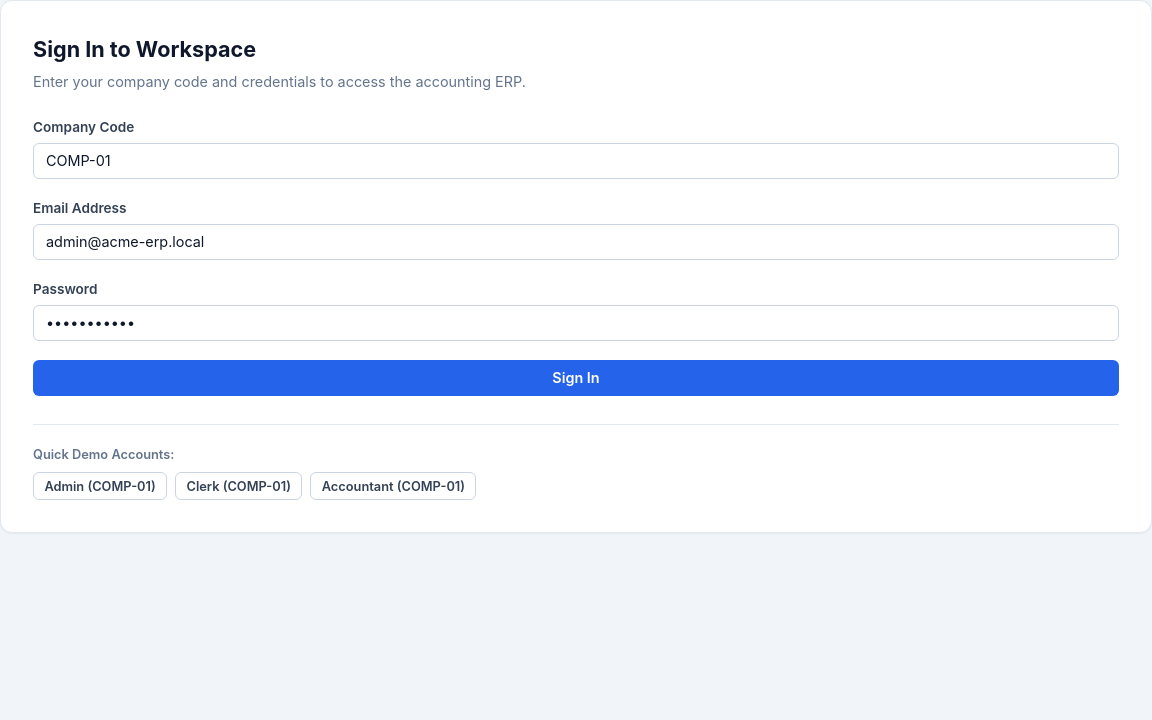
Test: Auth & Localization Contexts › LoginForm › populates fields when a quick account button is clicked
This screenshot has width=1152, height=720.
Step 1. Click the button "Clerk (COMP-01)" → (239, 486), box [175,472,302,500]
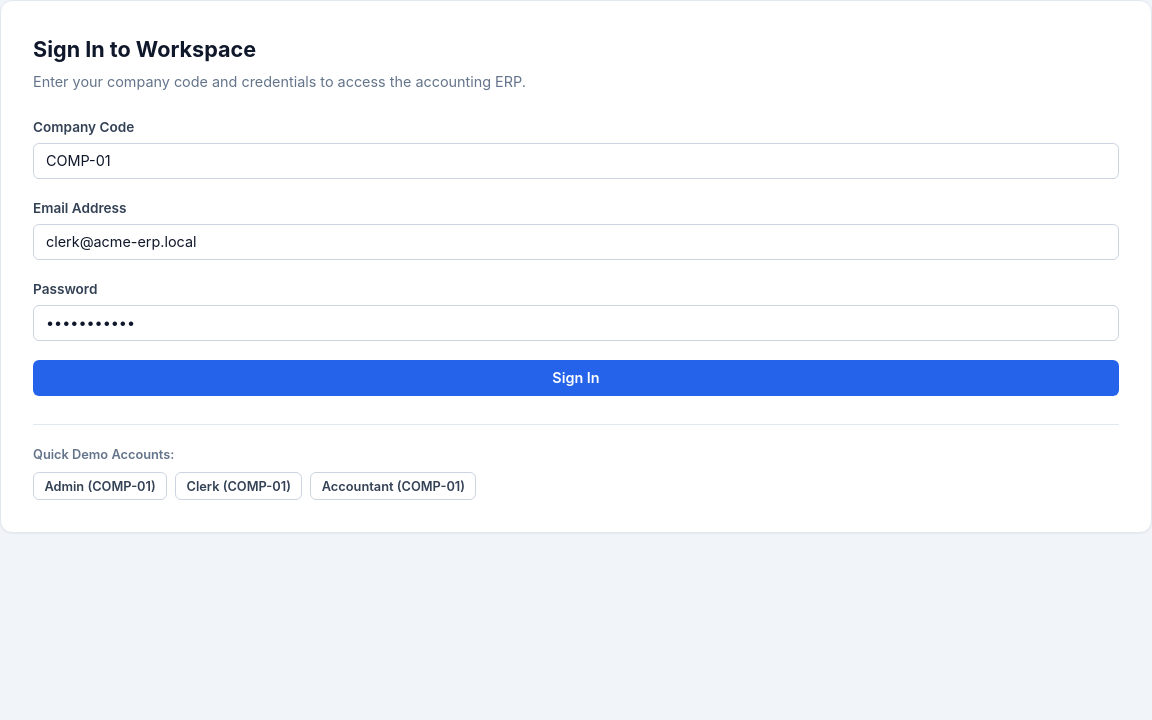
Expected: the field labelled "Email Address" holds "clerk@acme-erp.local", [33,224,1119,260]
